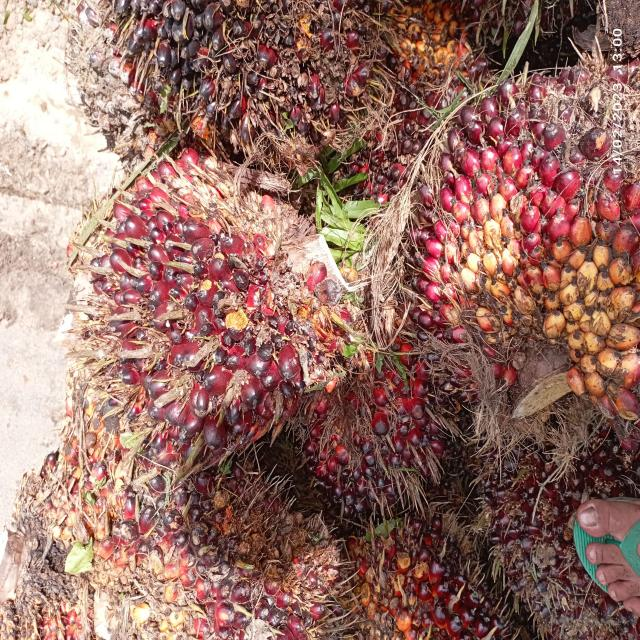fraksi 1: (60, 125, 358, 502), (385, 12, 640, 410), (12, 439, 353, 640), (303, 288, 442, 540)
